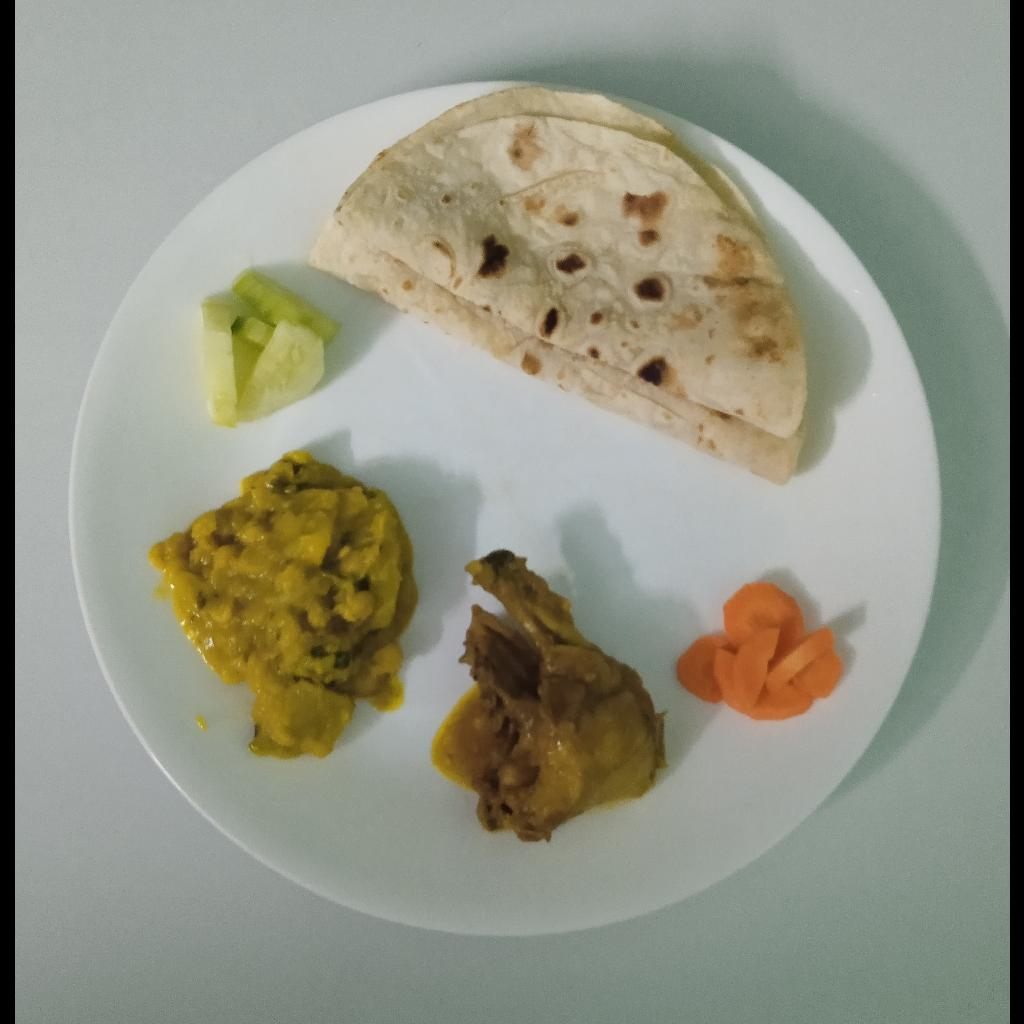carrot: (677, 581, 842, 720)
chicken: (460, 548, 665, 846)
cucumber: (203, 267, 339, 430)
lau: (147, 450, 418, 763)
ruti: (307, 85, 807, 488)
